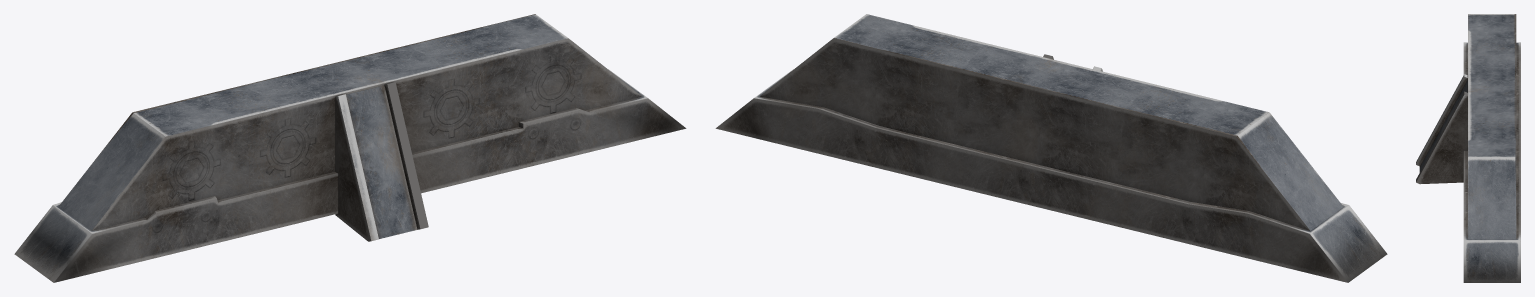
File: rampszzzzzzzzzz.FBX
3 views of the same model, side by side, from view 1: azimuth 30°, elevation 25°; view 2: azimuth 150°, elevation 25°; view 3: azimuth 270°, elevation 25° (orthographic). The views are drawn at different scales.
Visible parts, largest first — view 1: pCube215, pCube336; view 2: pCube215; view 3: pCube215, pCube336.
Part boxes in pixels (x1=…): pCube215: x1=14, y1=14, x2=686, y2=282; pCube336: x1=335, y1=82, x2=428, y2=241; pCube215: x1=715, y1=14, x2=1387, y2=282; pCube215: x1=1463, y1=14, x2=1520, y2=282; pCube336: x1=1416, y1=74, x2=1467, y2=184.
Bounding box in the file's own units: 483 × 89.91 × 95.12.
